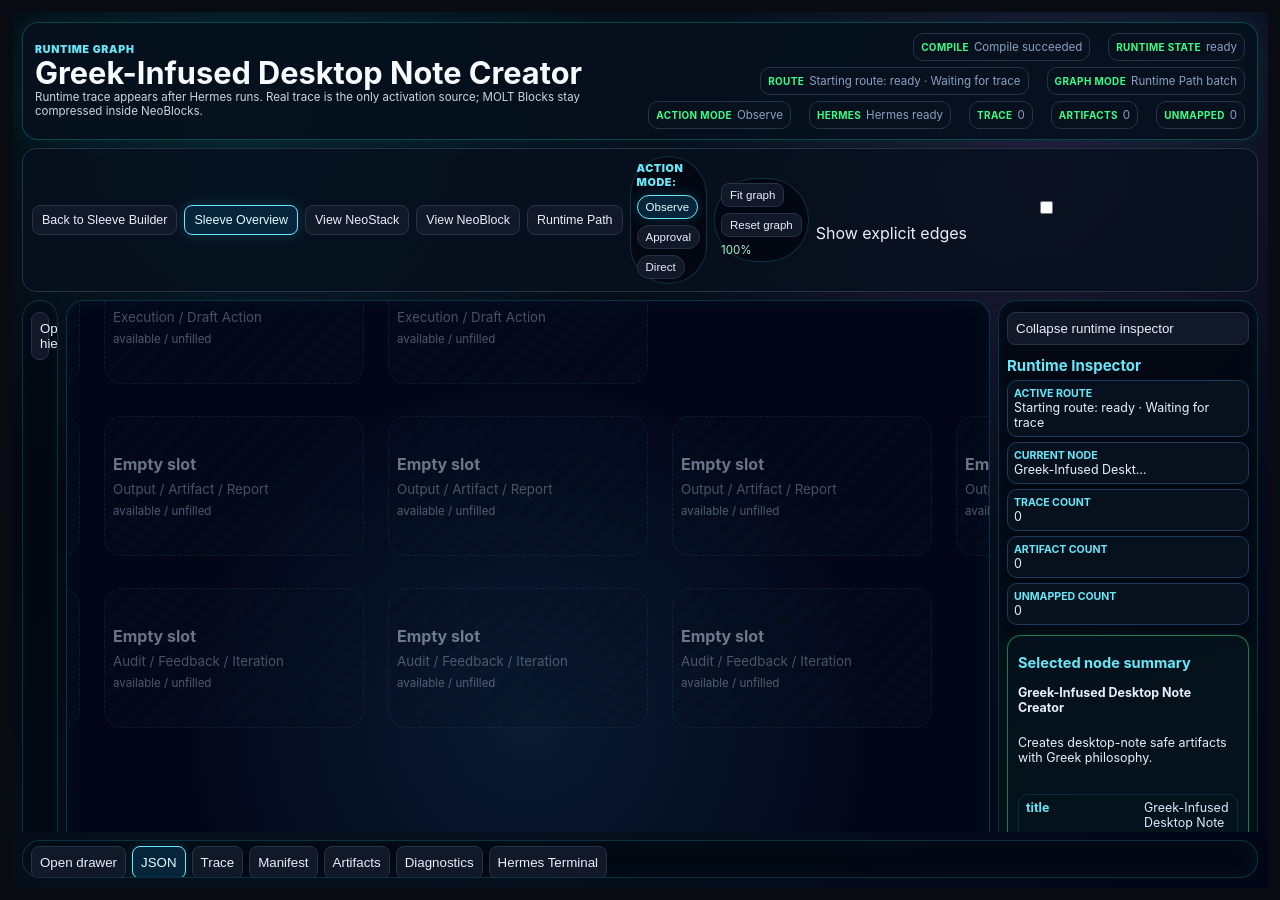
Test: RuntimeGeometryObserver › runtime response with finalOutput appends a visible Hermes message in the drawer transcript
The width and height of the screenshot is (1280, 900).
Click the button "Hermes Terminal" at (548, 862), box left=489, top=846, right=607, bottom=879
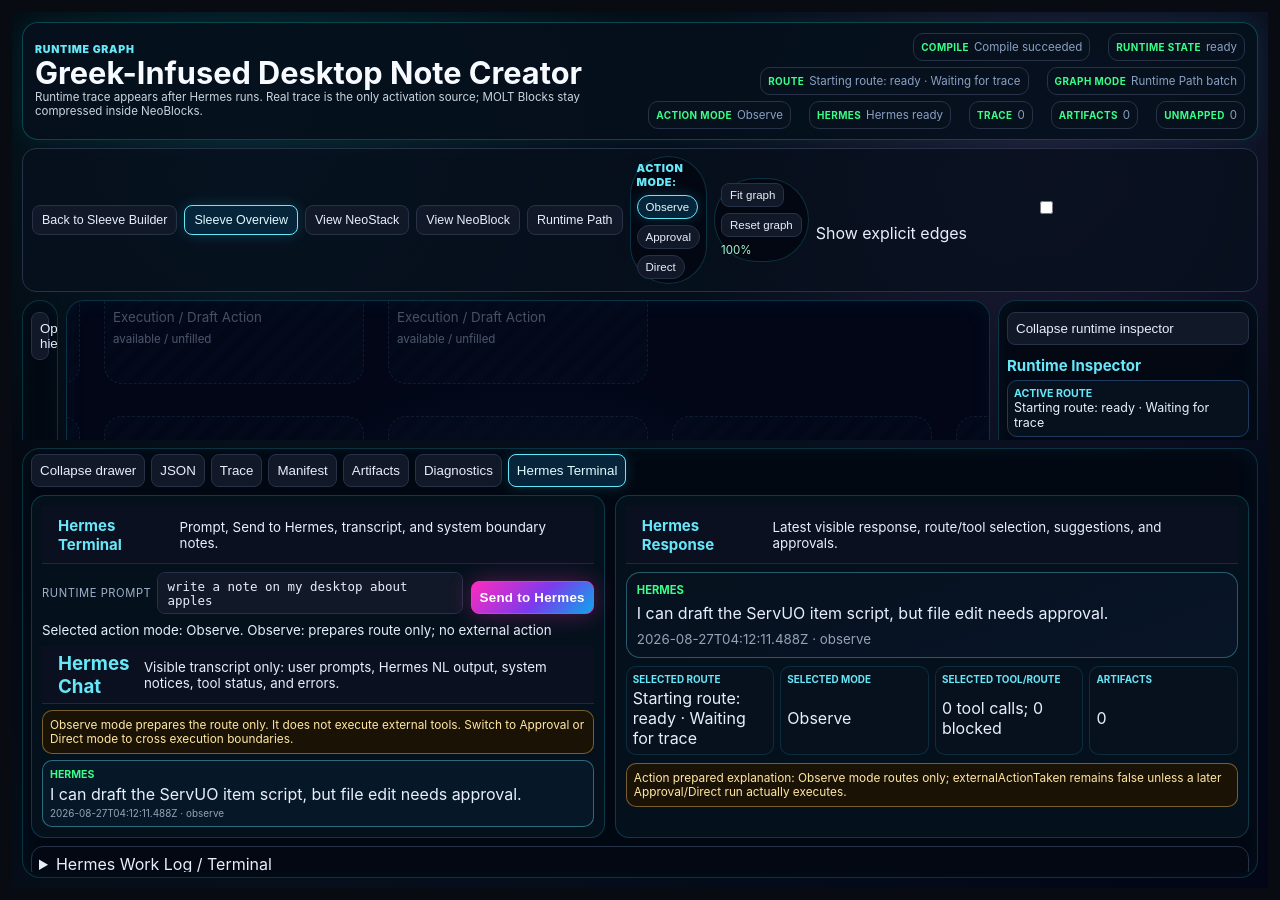
Result: the text "I can draft the ServUO item script, but file edit needs approval." below "Hermes Chat" is shown at left=50, top=784, right=522, bottom=804
